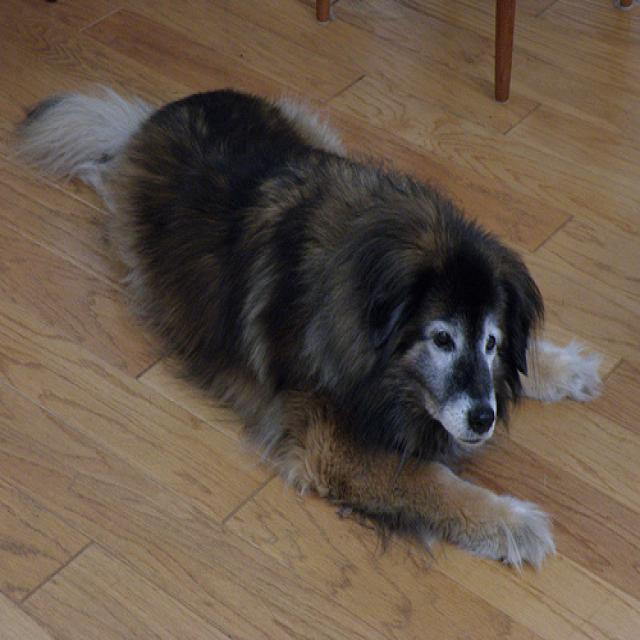dog-leonberger: (15, 72, 602, 572)
